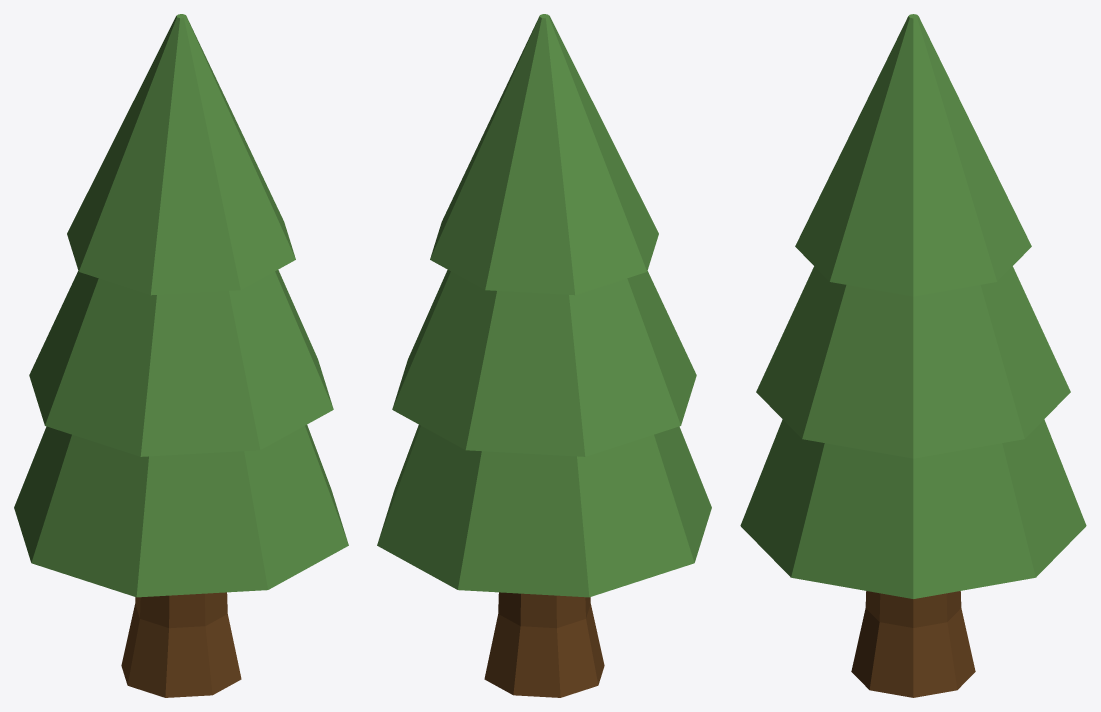
Rendered from Tree_Pine_07.fbx.
3 renders of one model, left to right at view 1: azimuth 30°, elevation 25°; view 2: azimuth 150°, elevation 25°; view 3: azimuth 270°, elevation 25°, orthographic.
Visible parts, largest first — view 1: Model; view 2: Model; view 3: Model.
Boxes of the visible parts, <box> form: Model: <box>14,14,348,697</box>; Model: <box>377,14,711,697</box>; Model: <box>740,14,1086,697</box>.
Size of the model in its own units: 231 by 482 by 231.
